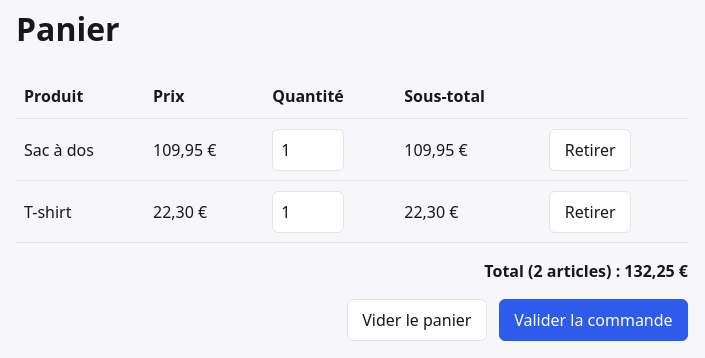
CartPage › supprime une ligne via le bouton Retirer
What coordinates should you click on to do the following:
click the button "Retirer" in the row of "Sac à dos"
I would click on:
 (590, 150)
Its box is [549,129,631,171].
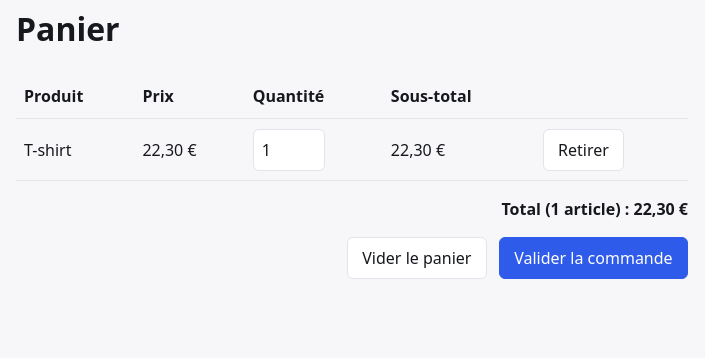
Check: the row with test id "cart-line-2" is shown, box [16,119,688,181]
Check: the row with test id "cart-line-1" is gone
